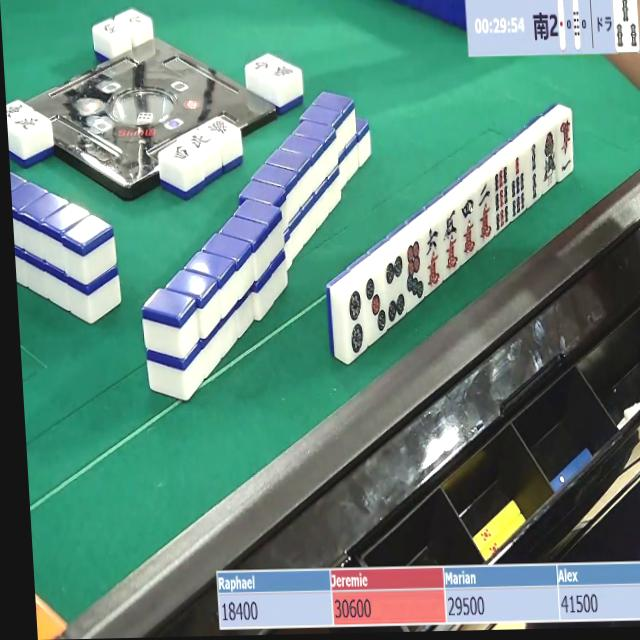m1: (556, 117, 575, 179)
m2: (475, 182, 496, 245)
m4: (458, 197, 482, 260)
m5: (439, 212, 465, 276)
m6: (420, 224, 448, 291)
s1: (540, 126, 558, 191)
s2: (526, 140, 544, 205)
s3: (613, 0, 640, 53)
s7: (509, 154, 530, 220)
s9: (492, 163, 511, 232)
t2: (346, 285, 372, 361)
t3: (360, 271, 389, 342)
t4: (383, 253, 406, 323)
t7: (402, 238, 429, 305)
